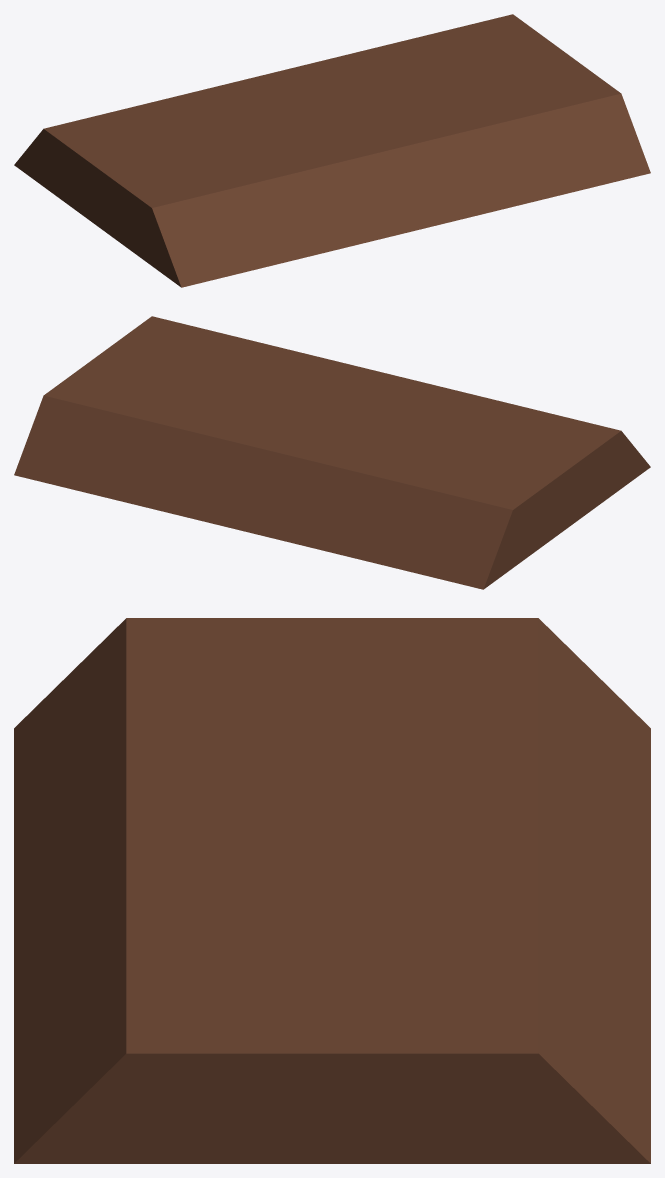
Rendered from Plot_Ridge.fbx.
3 views of the same model, one above another, from view 1: azimuth 30°, elevation 25°; view 2: azimuth 150°, elevation 25°; view 3: azimuth 270°, elevation 25° (orthographic). The views are drawn at different scales.
Parts seen in each view (by area): view 1: Plot_Ridge; view 2: Plot_Ridge; view 3: Plot_Ridge.
Part boxes in pixels (bbox=[...]): Plot_Ridge: bbox=[14, 14, 650, 287]; Plot_Ridge: bbox=[14, 316, 650, 589]; Plot_Ridge: bbox=[14, 618, 650, 1163].
Bounding box in the file's own units: 1.1 × 0.13 × 0.68.
